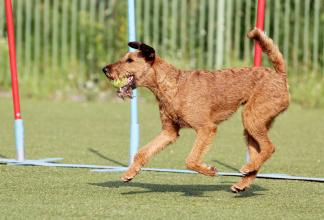dog: (90, 39, 163, 102)
